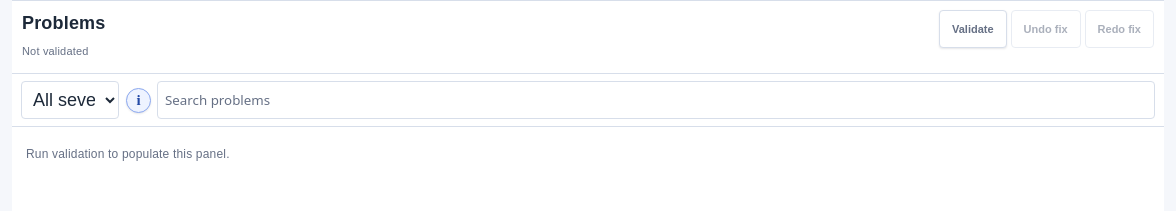
it: ProblemsPanel › shows current diagnostics after validation
Click the button "Validate" at (973, 29), box [939,10,1007,48]
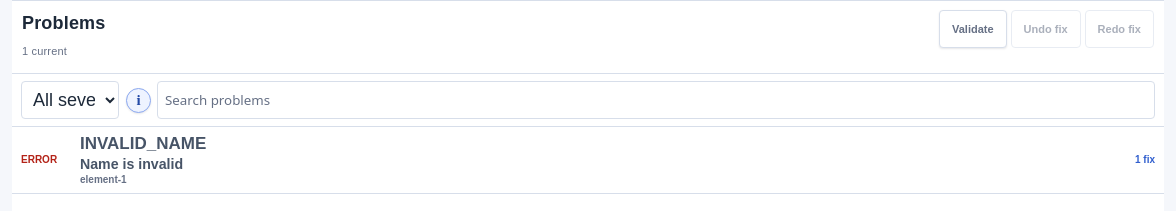
Check: the text "Name is invalid" is shown, box [80,156,183,172]
